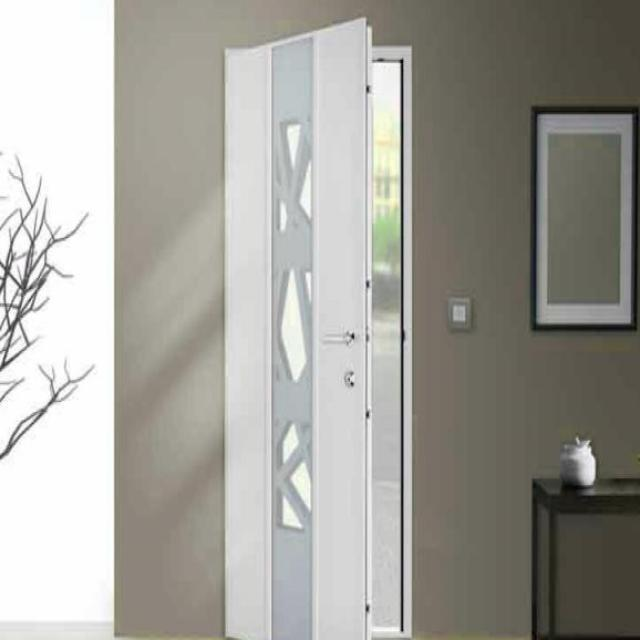door: (216, 16, 382, 639)
